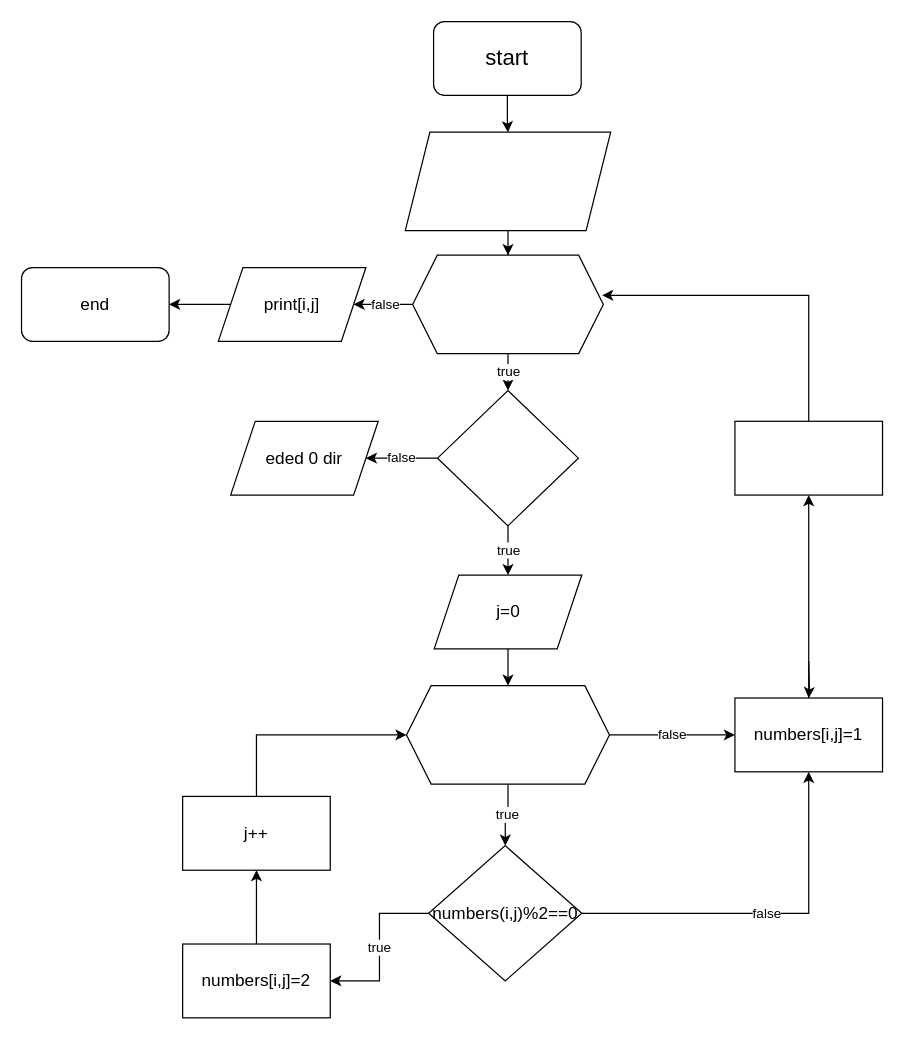
Image size: 904x1039. Some labels were removed from this diagram. Here are the shapes that lost their labels. From the top down, the centre of each, then its label:
At [507,181]: "number={{1,2,3} {4,5,6}} i=0".
At [507,304]: "i<number.GetLength(0)".
At [507,457]: "numbers[i,j]!=0".
At [808,457]: "i++".
At [507,734]: "j<number.GetLength(1)".
